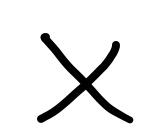mult: (38, 32, 134, 124)
